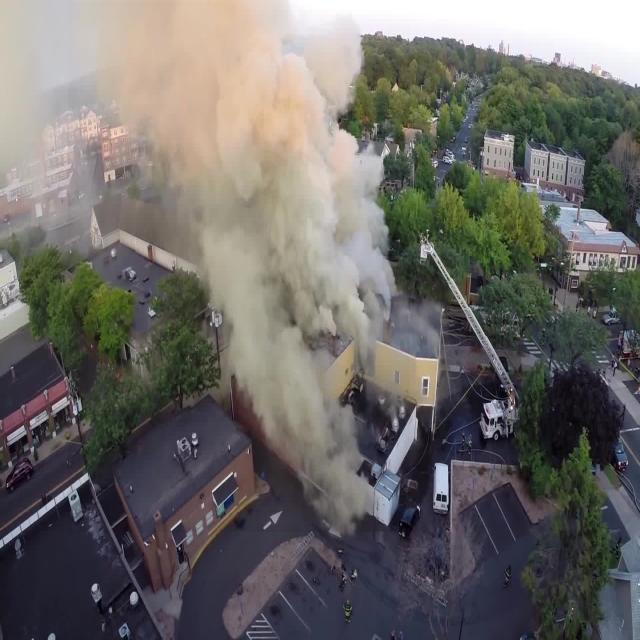Smoke: (68, 2, 410, 532)
